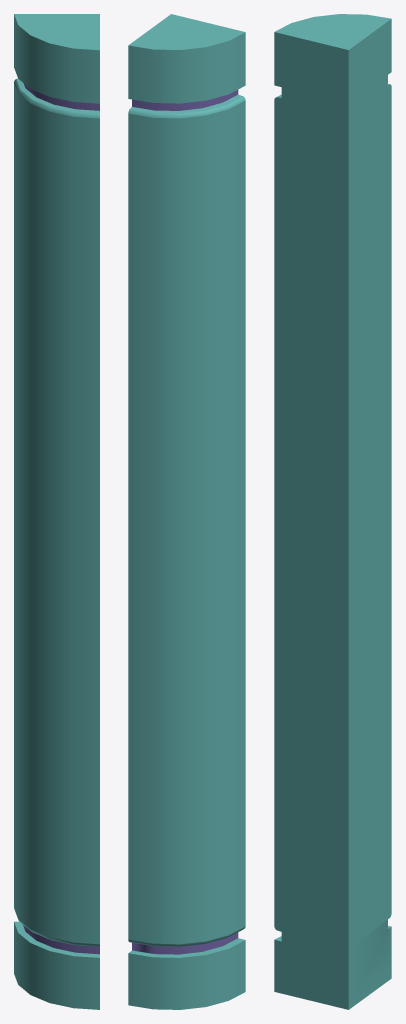
Rendered from 90sArcade_Pillar_Quarter.fbx.
3 views of the same model, side by side, from view 1: azimuth 90°, elevation 25°; view 2: azimuth 150°, elevation 25°; view 3: azimuth 330°, elevation 25° (orthographic).
Visible parts, largest first — view 1: Pillar_90sArcade.001; view 2: Pillar_90sArcade.001; view 3: Pillar_90sArcade.001.
Boxes of the visible parts, x1,y1,x2,y2 form: Pillar_90sArcade.001: (14,14,99,1009); Pillar_90sArcade.001: (128,14,245,1009); Pillar_90sArcade.001: (274,14,391,1009).
Bounding box in the file's own units: 40.59 × 500 × 40.59.
